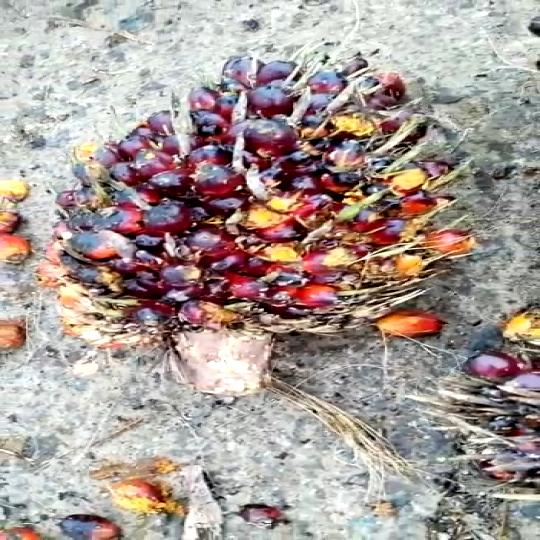masak: (44, 48, 482, 403)
